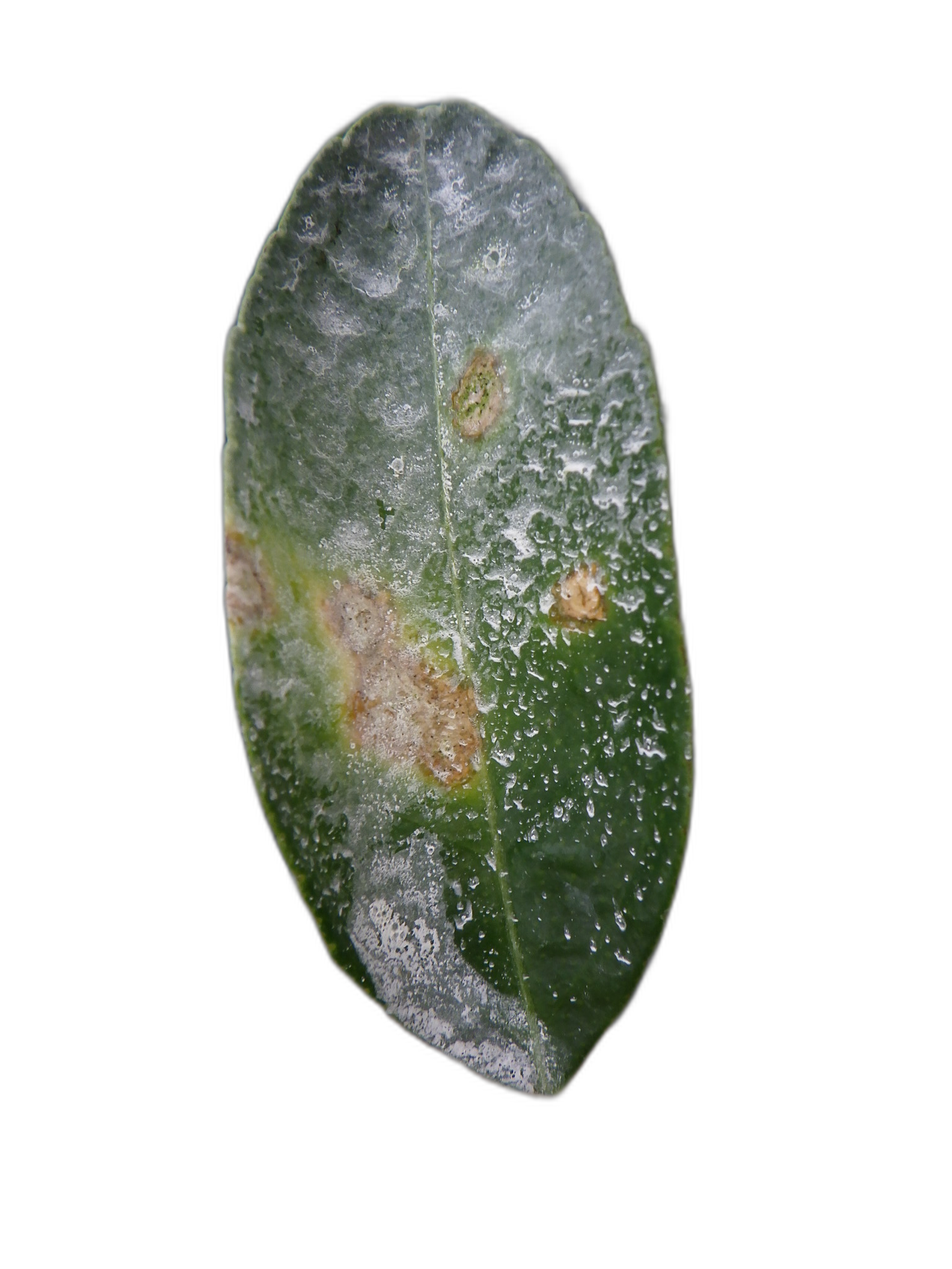Canker: (320, 582, 480, 785), (451, 349, 503, 438), (225, 530, 273, 625), (552, 564, 605, 621)
